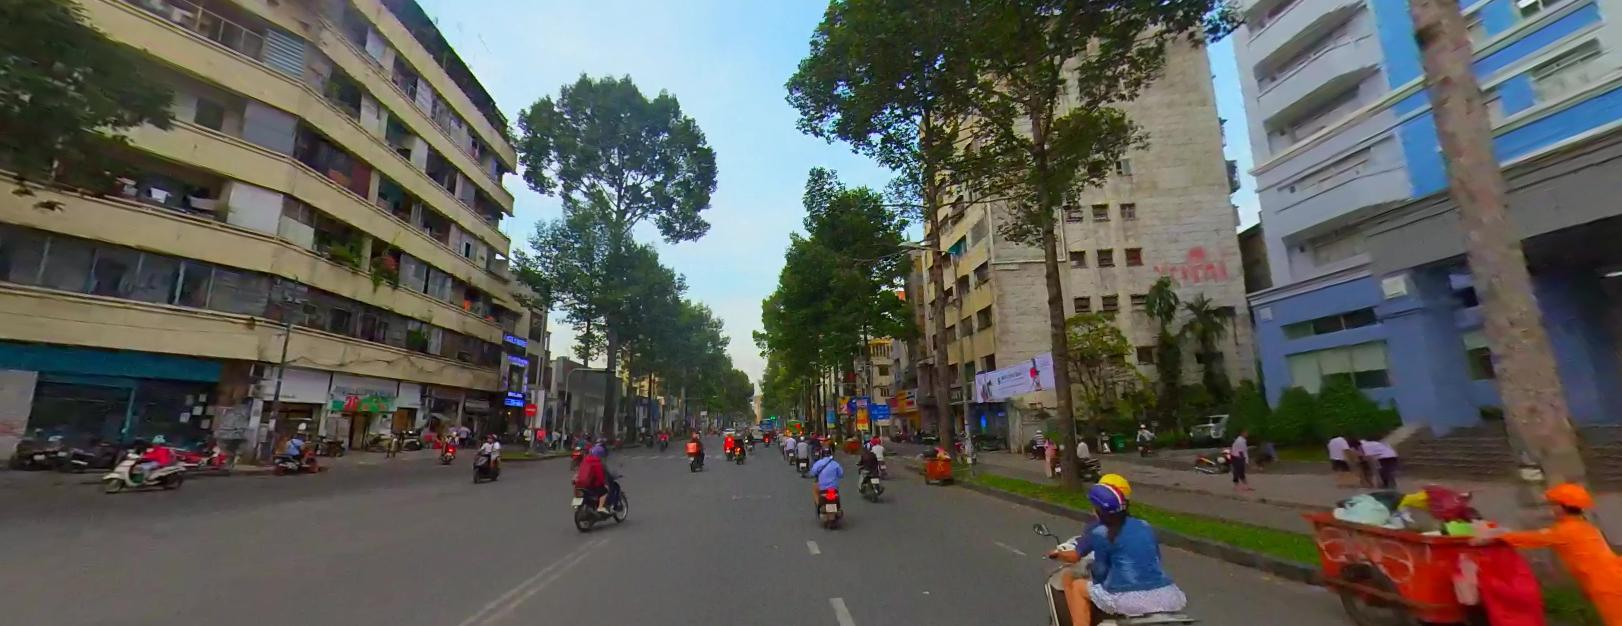Cam nguoc chieu: (522, 401, 537, 414)
